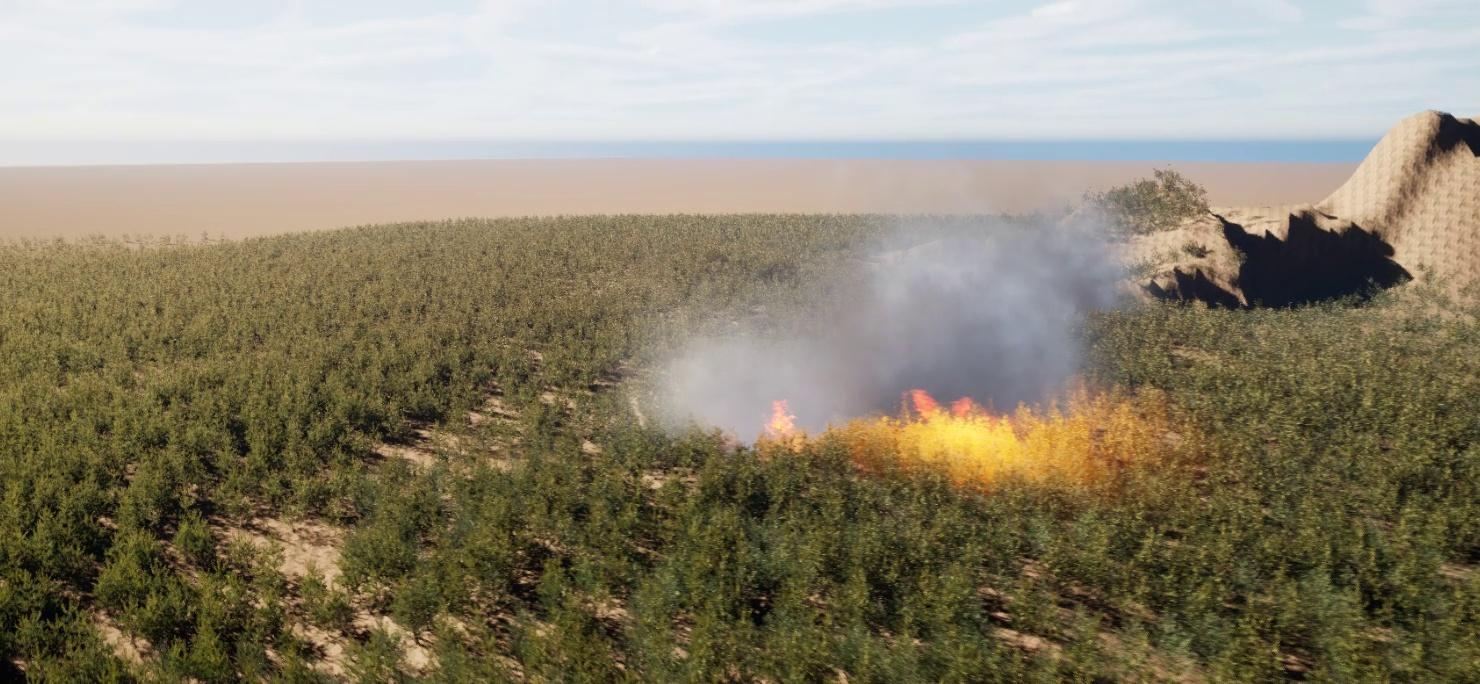fire: (756, 391, 1157, 476)
smoke: (638, 199, 1131, 459)
